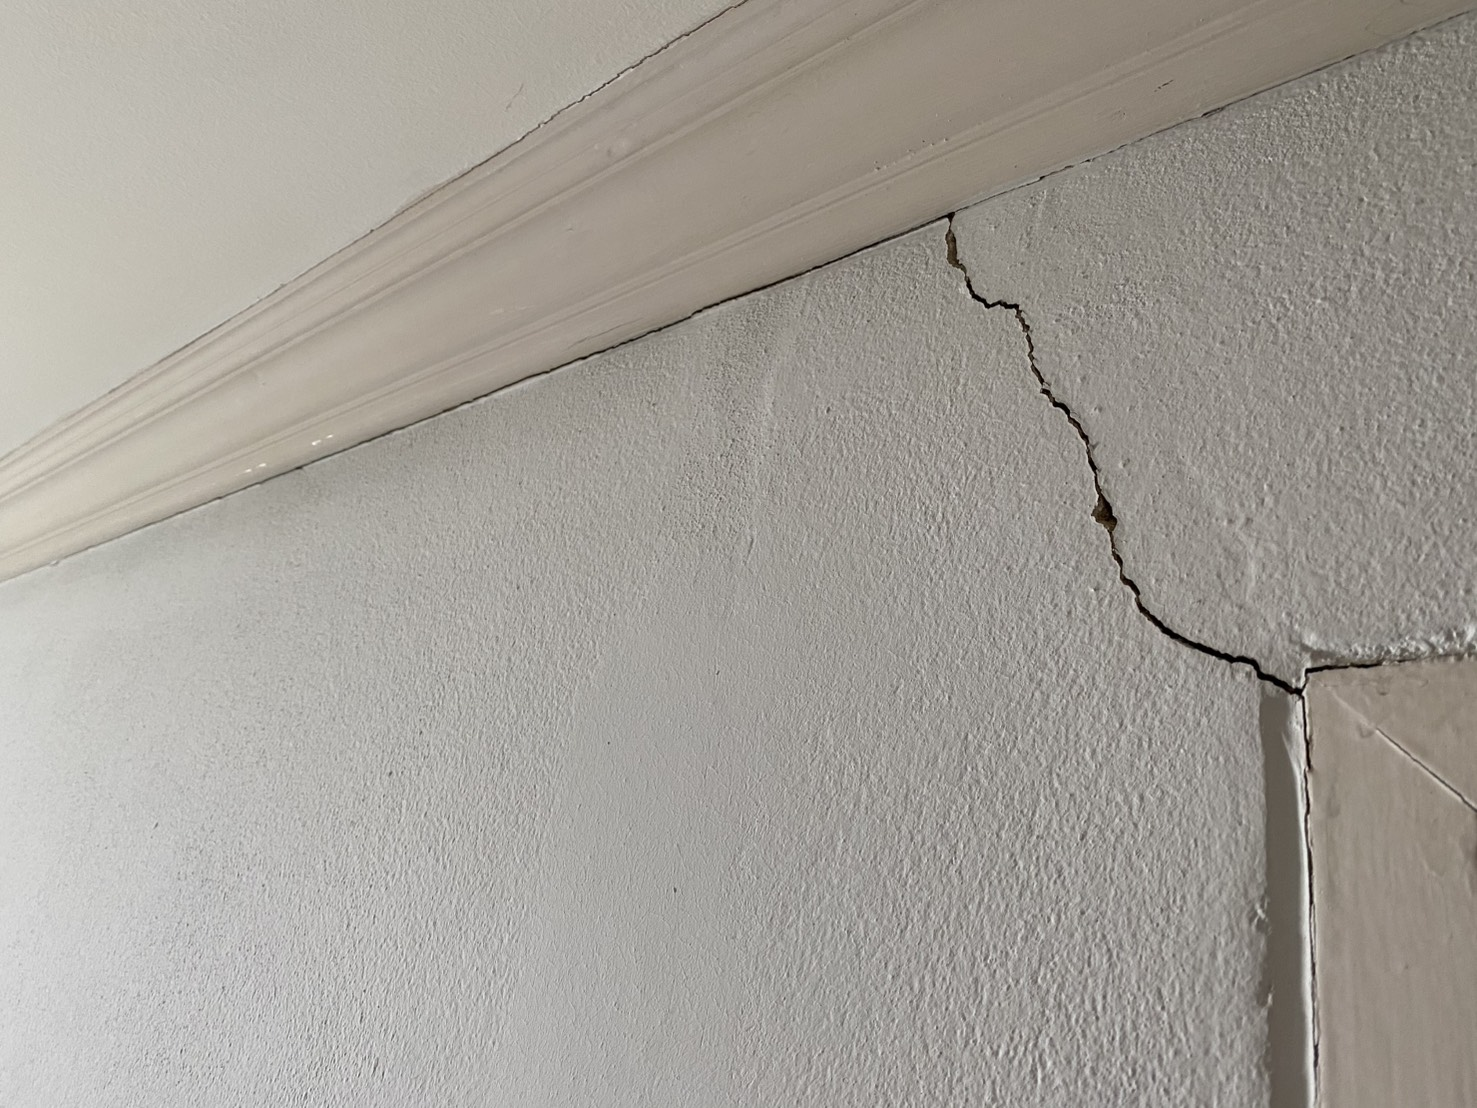Low: (937, 219, 1316, 711)
